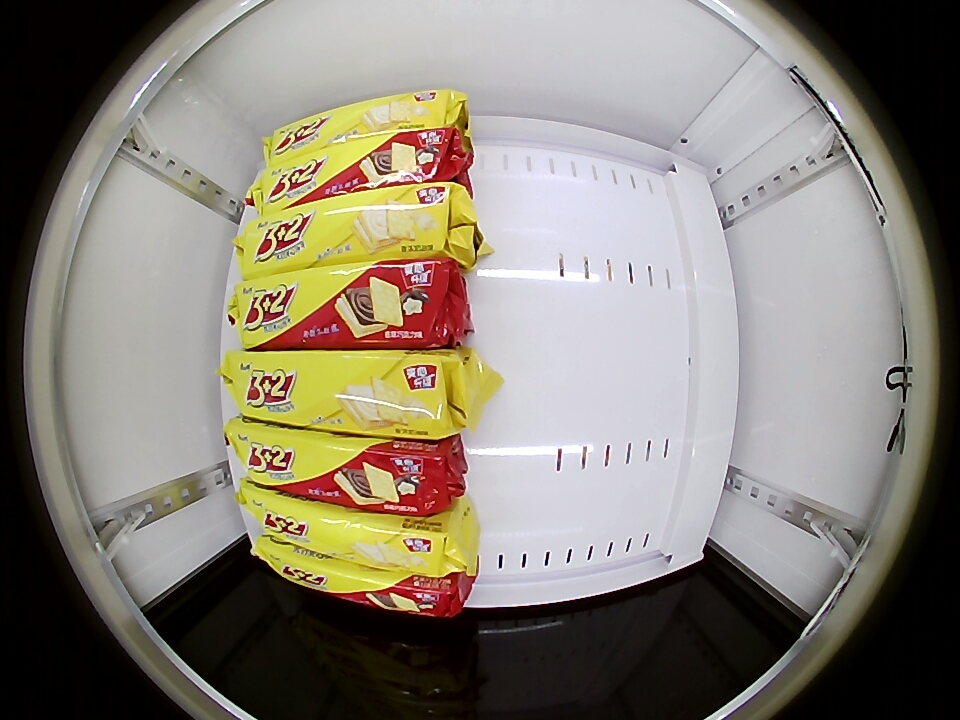3+2-2: (229, 349, 457, 435), (244, 489, 454, 576), (245, 185, 457, 268), (266, 90, 461, 159)
3jia2: (231, 425, 453, 514), (235, 261, 456, 349), (256, 130, 459, 208), (259, 543, 468, 617)
